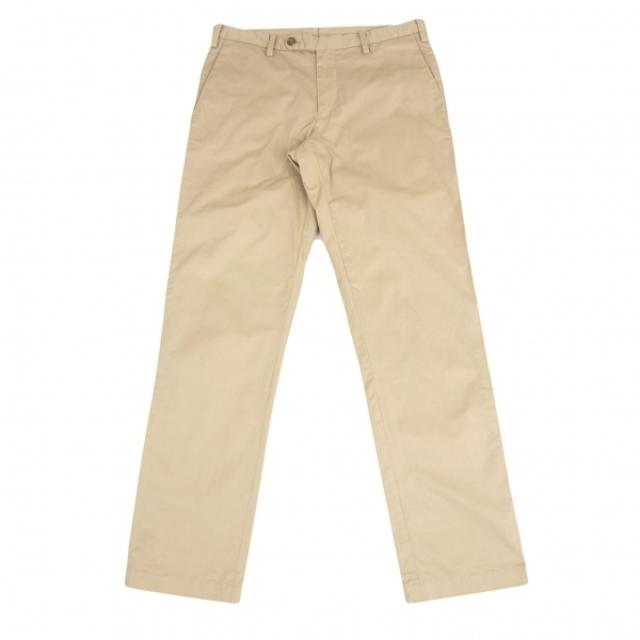long-pants: (123, 18, 530, 606)
